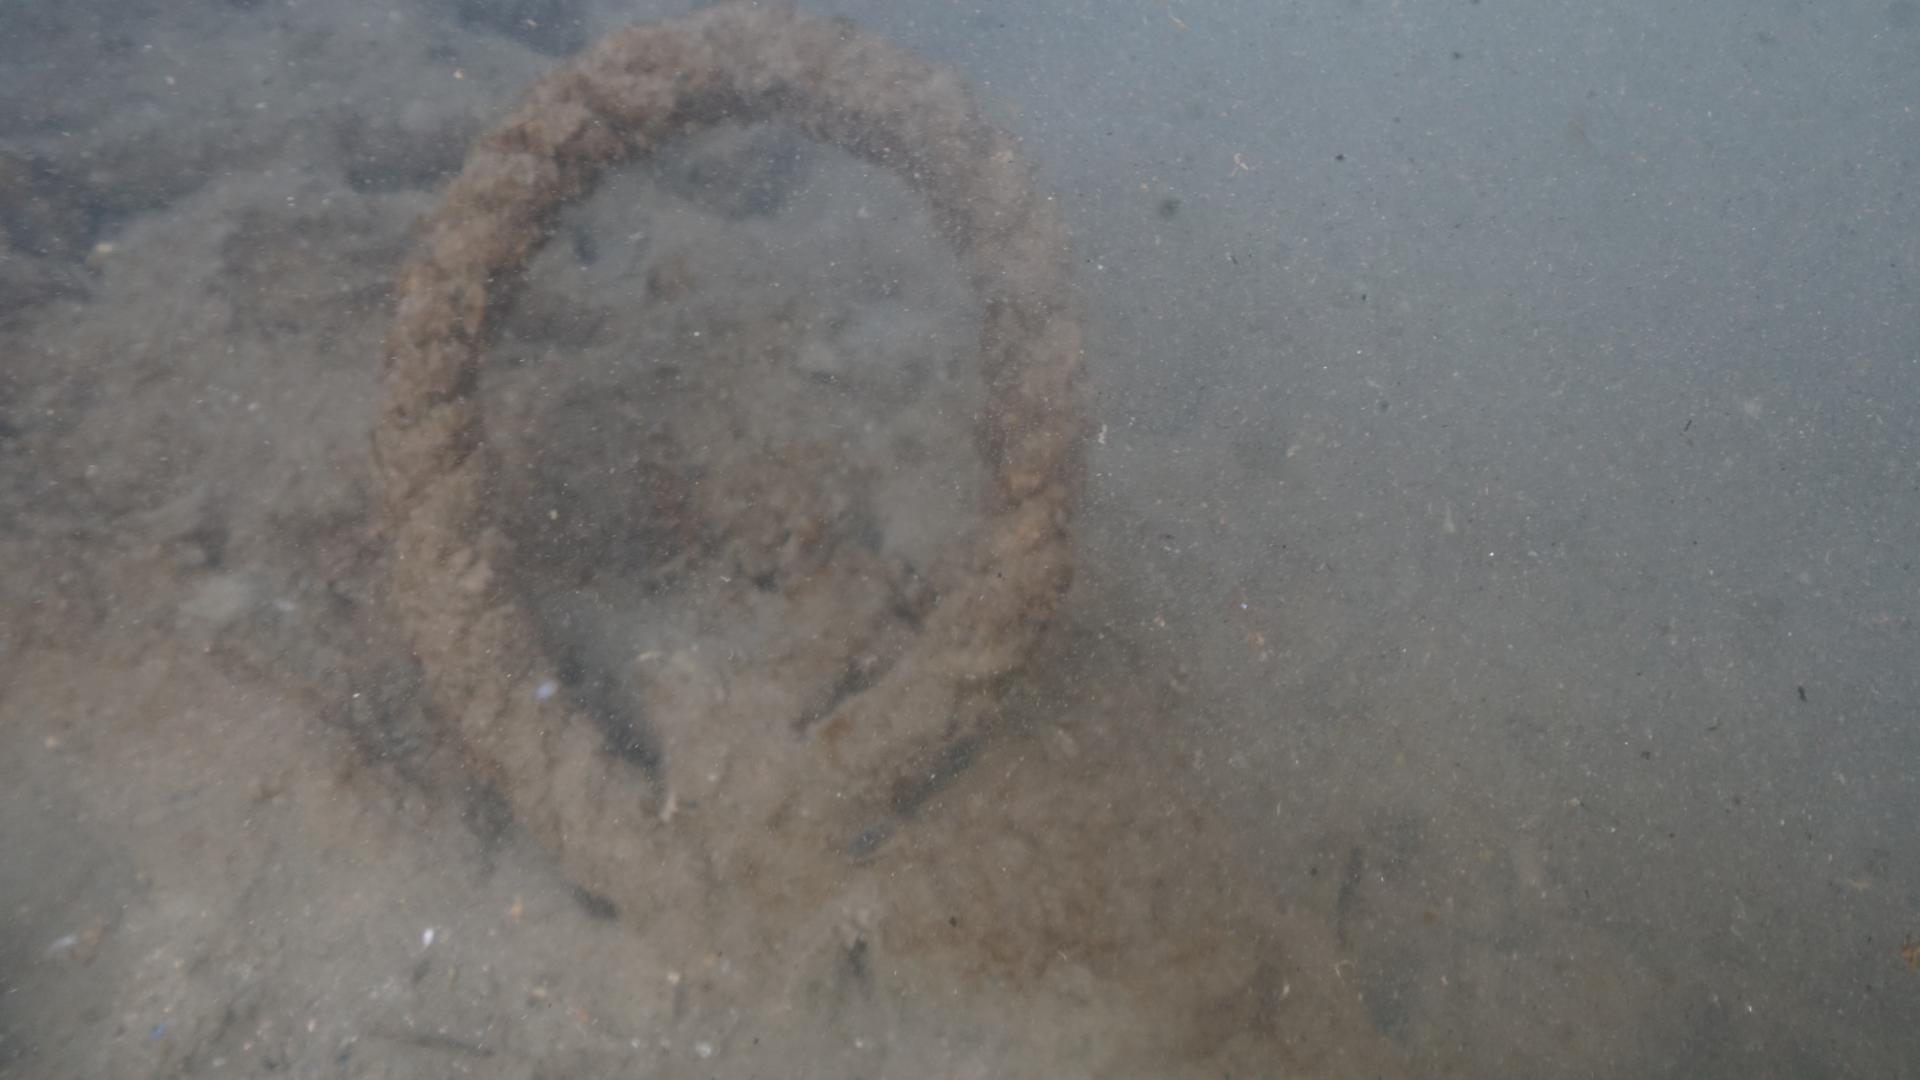rope: (365, 0, 1100, 969)
